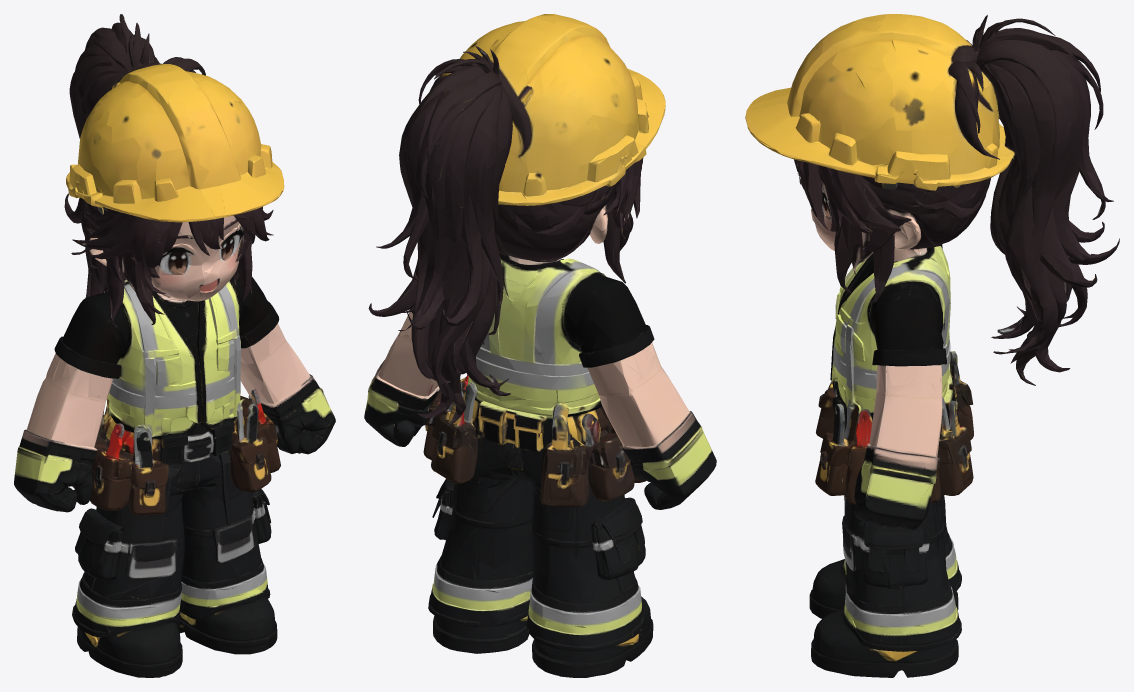
File: visawakon.glb
3 renders of one model, left to right at view 1: azimuth 30°, elevation 25°; view 2: azimuth 150°, elevation 25°; view 3: azimuth 270°, elevation 25°, orthographic. The views are drawn at different scales.
Visible parts, largest first — view 1: output_unwrapped; view 2: output_unwrapped; view 3: output_unwrapped.
Part boxes in pixels (x1,y1,x2,y2): output_unwrapped: (14, 14, 335, 677); output_unwrapped: (364, 14, 716, 677); output_unwrapped: (745, 14, 1119, 677).
Size of the model in its own units: 1.05 by 1.9 by 1.04.
1 material, 1 textured.
